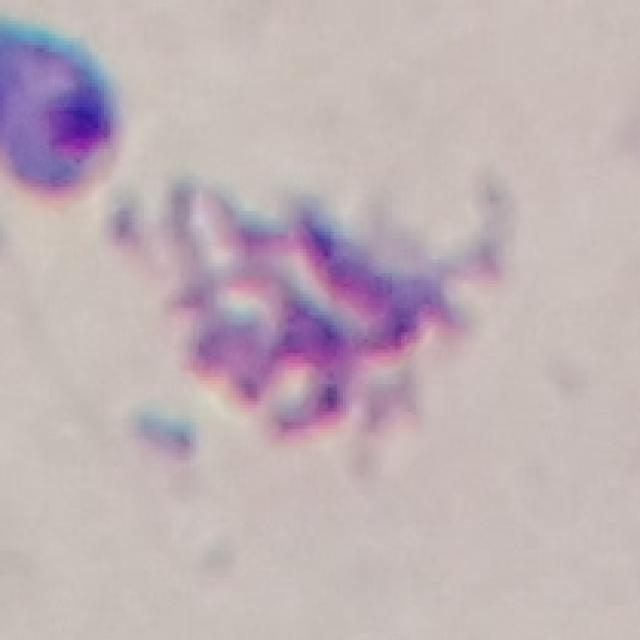non-sperm: (143, 176, 453, 440)
